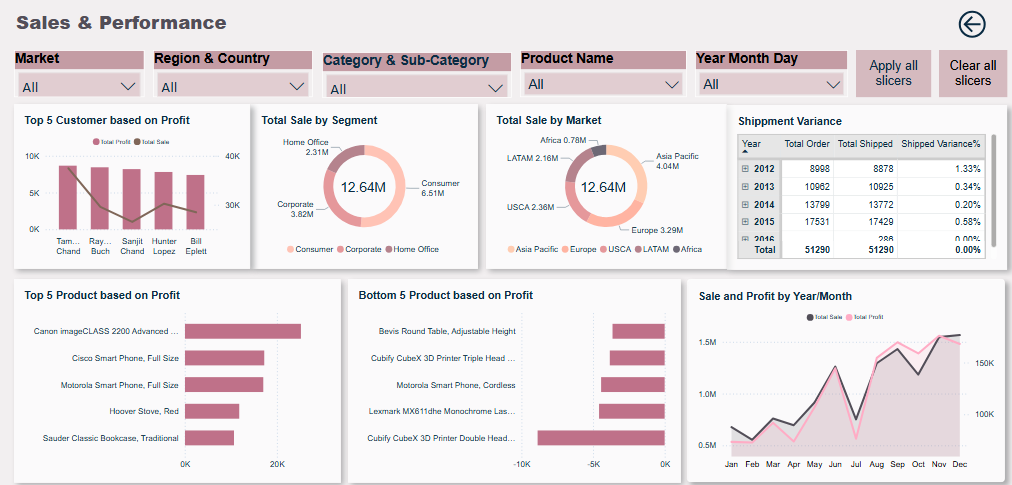

Layout of this report page (visuals, bound fields, positions):
{"tool":"powerbi","page":{"name":"Sales","canvas":[1500,720],"ordinal":1},"visuals":[{"type":"textbox","box":[18.4,0,821.1,60.2],"z":0},{"type":"slicer","title":"Market","fields":{"Values":["Orders.Market"]},"box":[25.1,75.3,190.6,68.6],"z":1000},{"type":"slicer","title":"Region & Country","fields":{"Values":["Orders.Region","Orders.Country"]},"box":[228.3,75.3,234.1,68.6],"z":2000},{"type":"slicer","title":"Category & Sub-Category","fields":{"Values":["Orders.Category","Orders.Sub-Category"]},"box":[474.9,76.9,277.6,66.9],"z":3000},{"type":"slicer","title":"Product Name","fields":{"Values":["Orders.Product Name"]},"box":[765.1,75.3,244.1,68.6],"z":4000},{"type":"slicer","title":"Year Month Day","fields":{"Values":["Calendar.Year","Calendar.Month","Calendar.Day"]},"box":[1021.5,74.6,223.9,68.8],"z":5000},{"type":"actionButton","box":[1378.5,74.6,99.5,68.8],"z":6000},{"type":"actionButton","box":[1257.1,74.6,109.8,68.8],"z":7000},{"type":"lineChart","title":"Sale and Profit by Year/Month","fields":{"Category":["Calendar.Year","Calendar.Month"],"Y":["Measures (2).Total Sale"],"Y2":["Measures (2).Total Profit"]},"box":[1009.8,409.8,465.4,297.1],"z":8000},{"type":"donutChart","fields":{"Category":["Orders.Segment"],"Y":["Measures (2).Total Sale"]},"box":[371.7,153.7,332.2,241.5],"z":9000},{"type":"card","fields":{"Values":["Measures (2).Total Sale"]},"box":[489.7,242.8,90.5,65.8],"z":10000},{"type":"donutChart","fields":{"Y":["Measures (2).Total Sale"],"Category":["Orders.Market"]},"box":[716,154.3,351.9,240.7],"z":11000},{"type":"card","fields":{"Values":["Measures (2).Total Sale"]},"box":[848.8,244.4,76.1,62.9],"z":12000},{"type":"pivotTable","title":"Shippment Variance","fields":{"Rows":["Calendar.Year","Calendar.Month"],"Values":["Measures2.Total Order","Measures (2).Count of Ship","Measures2.Variance%"]},"box":[1068.1,154.9,410.4,240.7],"z":13000},{"type":"lineClusteredColumnComboChart","title":"Top 5 Customer based on Profit","fields":{"Category":["Orders.Customer Name"],"Y":["Measures2.Total Profit"],"Y2":["Measures2.Total Sale"]},"box":[25.1,153.8,346.2,240.8],"z":14000},{"type":"clusteredBarChart","title":"Top 5 Product  based on Profit","fields":{"Y":["Measures2.Total Profit"],"Category":["Orders.Product Name"]},"box":[25.1,409.7,478.3,297.7],"z":15000},{"type":"clusteredBarChart","title":"Bottom 5 Product  based on Profit","fields":{"Y":["Measures2.Total Profit"],"Category":["Orders.Product Name"]},"box":[513.2,409.7,486.6,297.7],"z":16000},{"type":"actionButton","box":[1397.6,7.3,61.5,60],"z":17000}]}

Visuals, with their boxes in screenshot pixels (x1, y1, x2, y2), scaled from the page's 1500x720 canvas onto the 1012x485 screenshot:
textbox: (left=12, top=0, right=566, bottom=41)
"Market" slicer: (left=17, top=51, right=146, bottom=97)
"Region & Country" slicer: (left=154, top=51, right=312, bottom=97)
"Category & Sub-Category" slicer: (left=320, top=52, right=508, bottom=97)
"Product Name" slicer: (left=516, top=51, right=681, bottom=97)
"Year Month Day" slicer: (left=689, top=50, right=840, bottom=97)
actionButton: (left=930, top=50, right=997, bottom=97)
actionButton: (left=848, top=50, right=922, bottom=97)
"Sale and Profit by Year/Month" lineChart: (left=681, top=276, right=995, bottom=476)
donutChart - Orders.Segment x Measures (2).Total Sale: (left=251, top=104, right=475, bottom=266)
card - Measures (2).Total Sale: (left=330, top=164, right=391, bottom=208)
donutChart - Measures (2).Total Sale x Orders.Market: (left=483, top=104, right=720, bottom=266)
card - Measures (2).Total Sale: (left=573, top=165, right=624, bottom=207)
"Shippment Variance" pivotTable: (left=721, top=104, right=997, bottom=266)
"Top 5 Customer based on Profit" lineClusteredColumnComboChart: (left=17, top=104, right=251, bottom=266)
"Top 5 Product  based on Profit" clusteredBarChart: (left=17, top=276, right=340, bottom=477)
"Bottom 5 Product  based on Profit" clusteredBarChart: (left=346, top=276, right=675, bottom=477)
actionButton: (left=943, top=5, right=984, bottom=45)
